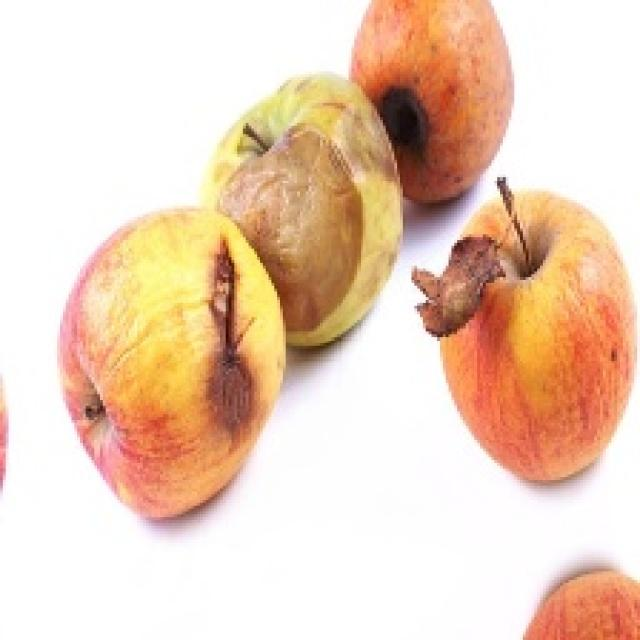rotten_apple: (62, 210, 280, 515), (213, 78, 403, 219), (394, 0, 509, 200)
